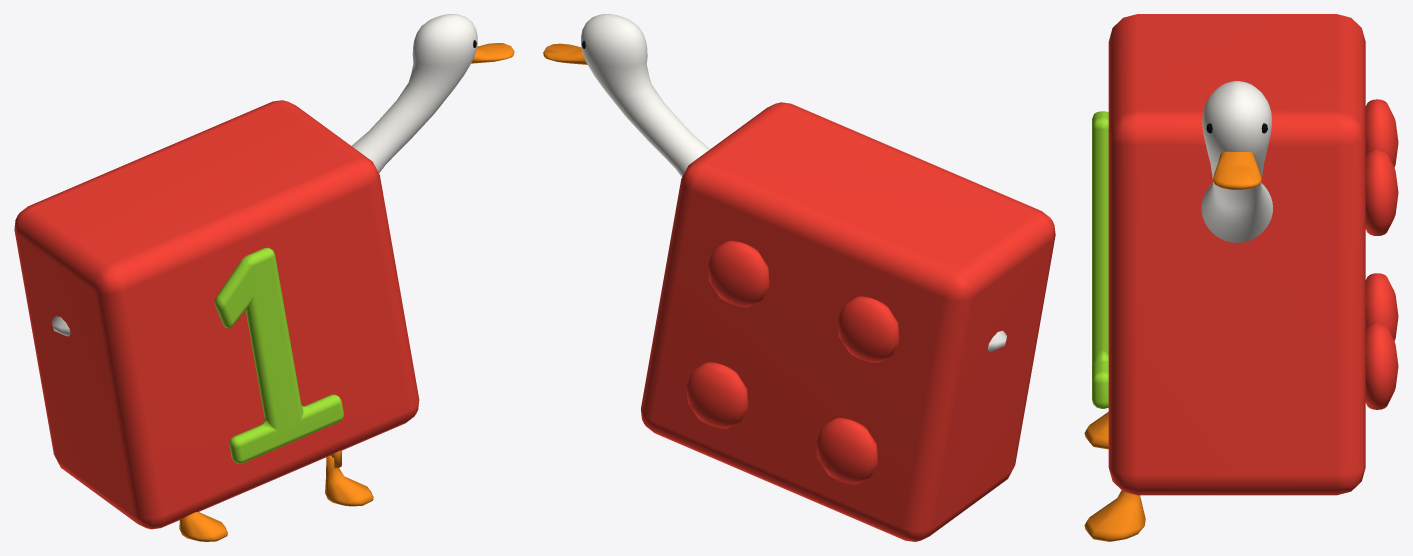
File: duck-numberblock.glb
3 views of the same model, side by side, from view 1: azimuth 30°, elevation 25°; view 2: azimuth 150°, elevation 25°; view 3: azimuth 270°, elevation 25° (orthographic). The views are drawn at different scales.
Parts seen in each view (by area): view 1: duck-numberblock; view 2: duck-numberblock; view 3: duck-numberblock.
Part boxes in pixels (x1=…): duck-numberblock: x1=14, y1=14, x2=514, y2=541; duck-numberblock: x1=543, y1=14, x2=1055, y2=541; duck-numberblock: x1=1084, y1=14, x2=1398, y2=541.
Bounding box in the file's own units: 1 × 0.8691 × 0.4599.
Materials: 1 (1 with a texture image).
